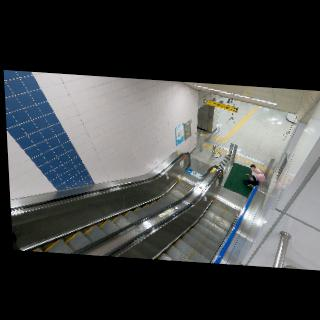anomaly: (241, 163, 268, 192)
